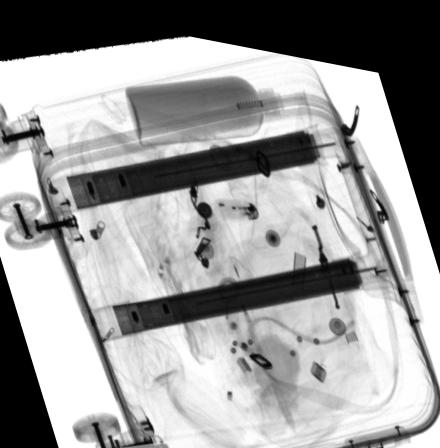Lighter: (214, 189, 258, 210)
